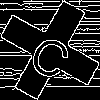C: (25, 25, 79, 83)
